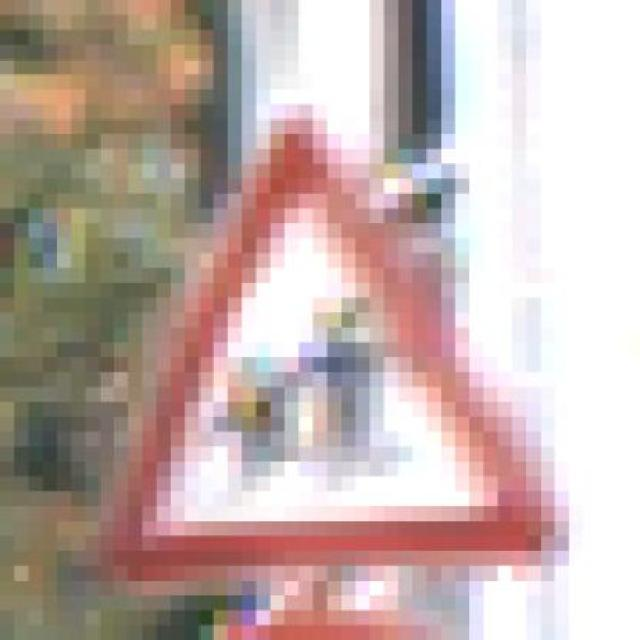Beware of children: (71, 74, 612, 580)
